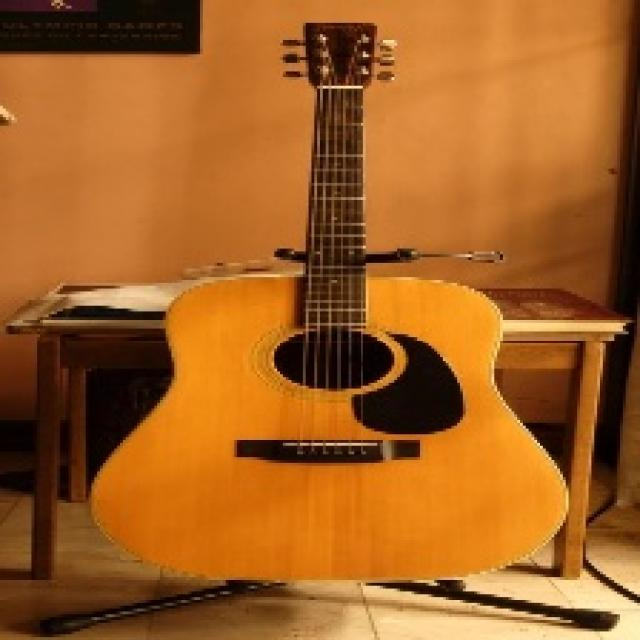guitar: (83, 19, 576, 592)
